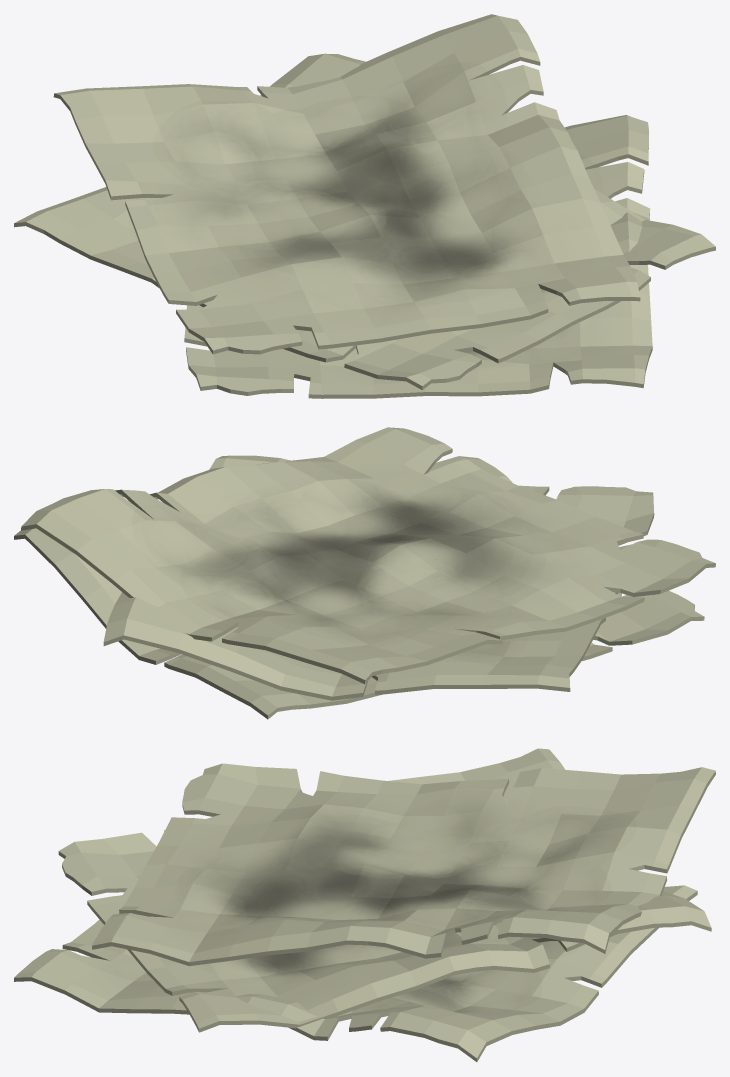
The picture shows the model from 3 angles, top to bottom: view 1: azimuth 30°, elevation 25°; view 2: azimuth 150°, elevation 25°; view 3: azimuth 270°, elevation 25°; orthographic projection.
Parts seen in each view (by area): view 1: hoja de papel.002, hoja de papel.001, hoja de papel; view 2: hoja de papel.002, hoja de papel, hoja de papel.001; view 3: hoja de papel.002, hoja de papel, hoja de papel.001.
Boxes of the visible parts, x1=… form: hoja de papel.002: x1=53, y1=14, x2=640, y2=354; hoja de papel.001: x1=184, y1=115, x2=652, y2=398; hoja de papel: x1=14, y1=53, x2=715, y2=390; hoja de papel.002: x1=21, y1=427, x2=715, y2=684; hoja de papel: x1=103, y1=455, x2=654, y2=700; hoja de papel.001: x1=14, y1=456, x2=704, y2=719; hoja de papel.002: x1=92, y1=763, x2=715, y2=966; hoja de papel: x1=58, y1=748, x2=711, y2=1032; hoja de papel.001: x1=14, y1=885, x2=697, y2=1061.
Size of the model in its own units: 2781 by 600 by 2841.
1 material, 1 textured.
